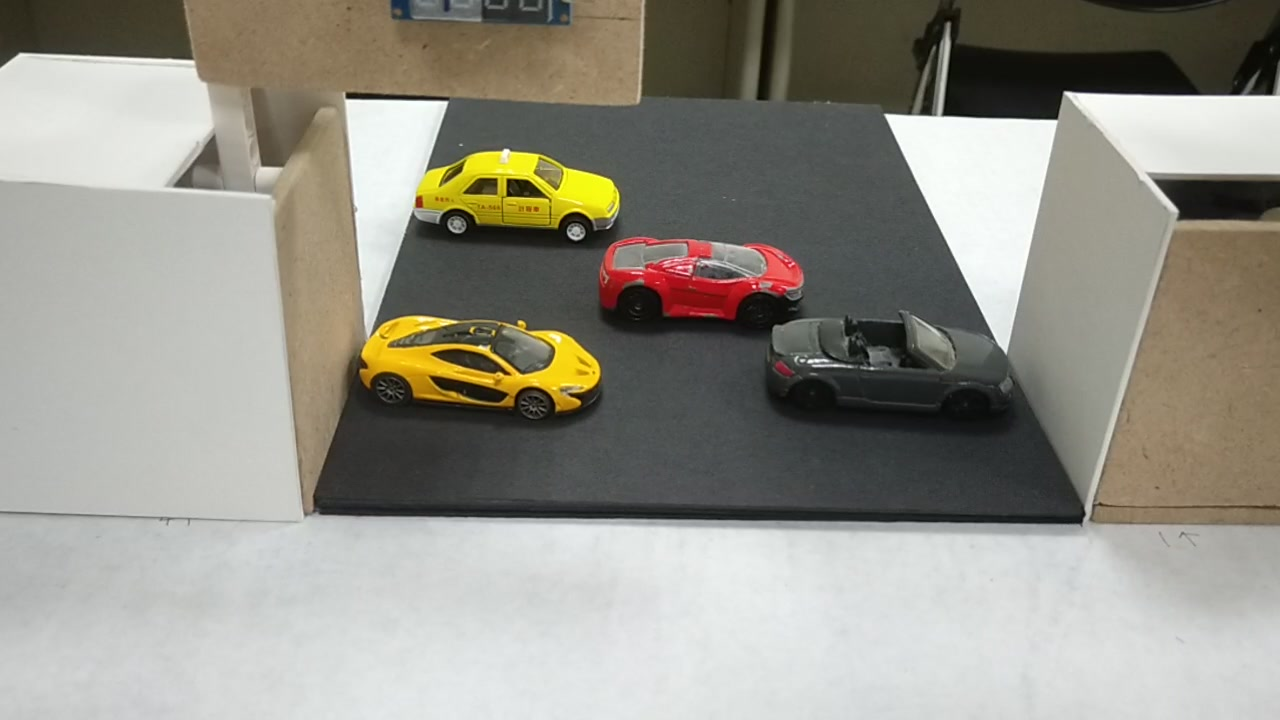car: (348, 311, 603, 417), (767, 317, 1014, 422), (595, 239, 803, 324), (410, 152, 619, 230)
